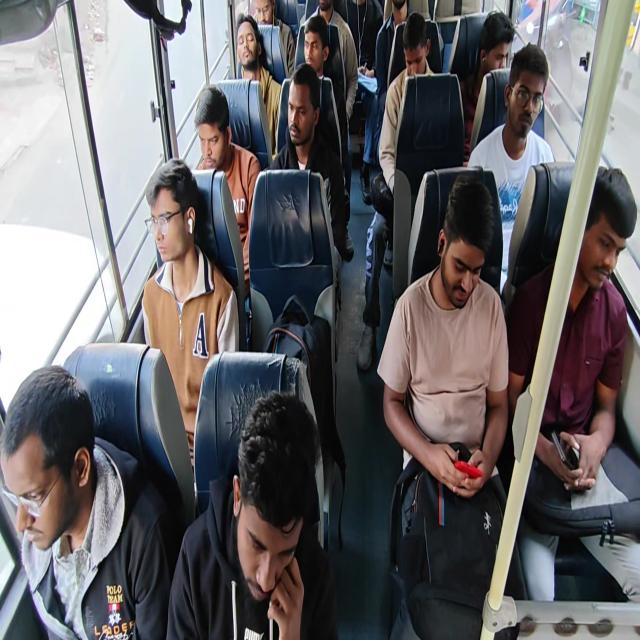person: (0, 404, 118, 625), (235, 462, 337, 640), (566, 162, 640, 320), (140, 189, 227, 303), (437, 159, 489, 344), (500, 52, 568, 161), (193, 91, 235, 212), (294, 88, 337, 198), (226, 22, 276, 108), (478, 18, 535, 77), (404, 30, 440, 104), (344, 0, 385, 48), (251, 0, 287, 42), (305, 28, 328, 90), (313, 0, 336, 37), (380, 0, 413, 20)
